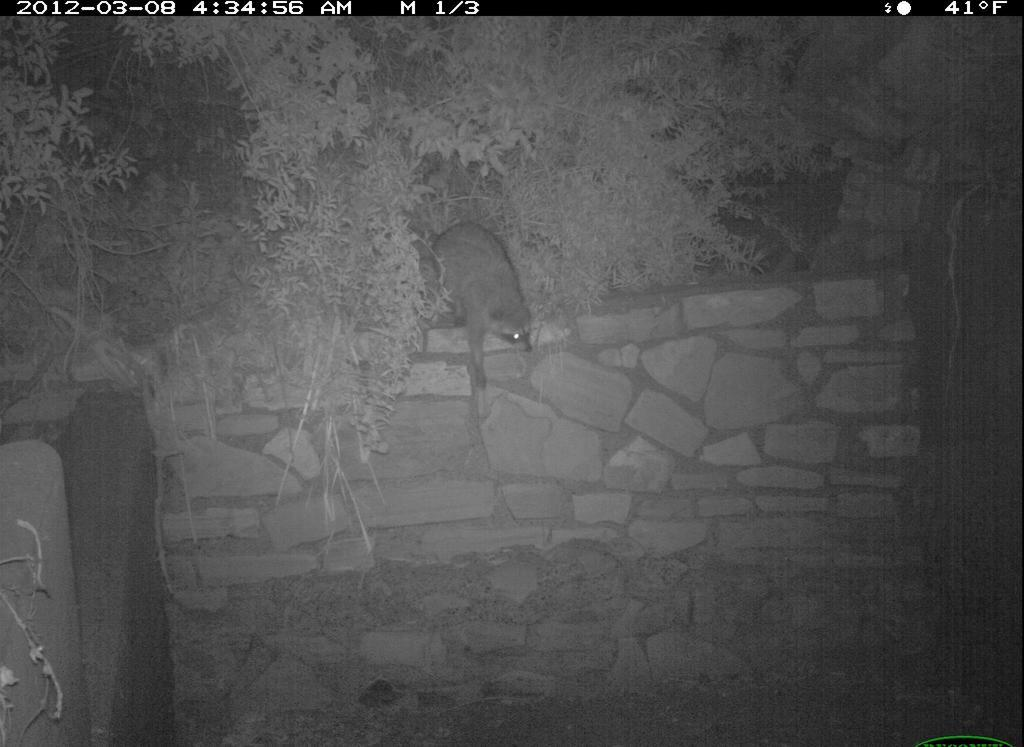raccoon: (414, 214, 556, 393)
